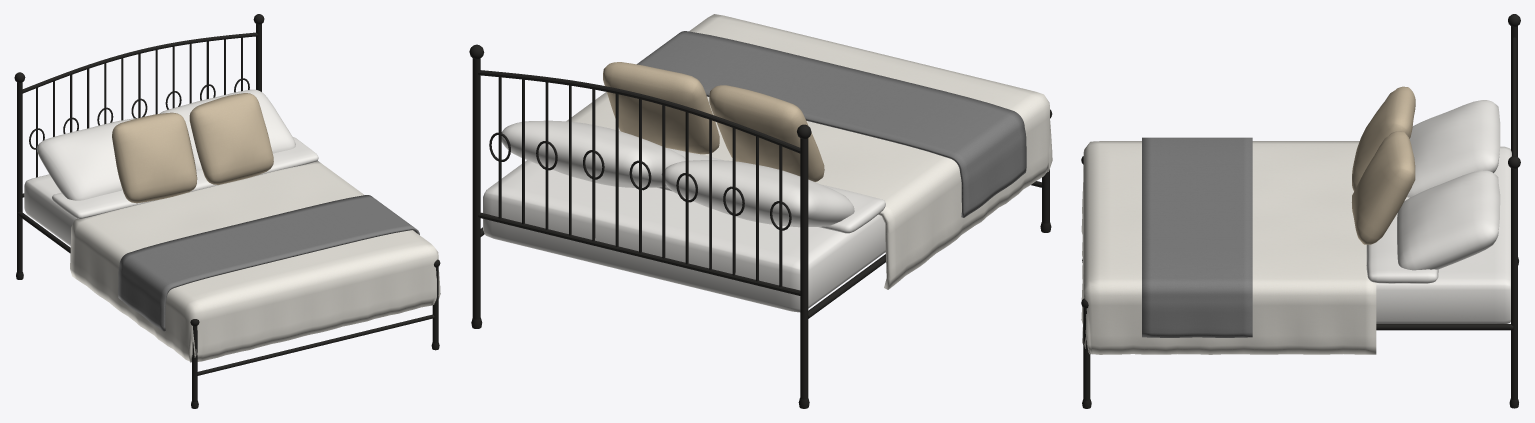
File: cama_forja_150.glb
The picture shows the model from 3 angles, left to right: view 1: azimuth 30°, elevation 25°; view 2: azimuth 150°, elevation 25°; view 3: azimuth 270°, elevation 25°; orthographic projection. The views are drawn at different scales.
Visible parts, largest first — view 1: cama_forja_150; view 2: cama_forja_150; view 3: cama_forja_150.
Boxes of the visible parts, <box> form: cama_forja_150: <box>14,14,440,408</box>; cama_forja_150: <box>469,14,1052,408</box>; cama_forja_150: <box>1081,14,1520,408</box>.
Bounding box in the file's own units: 1.65 × 1.25 × 1.99.
Materials: 5 (4 with a texture image).
